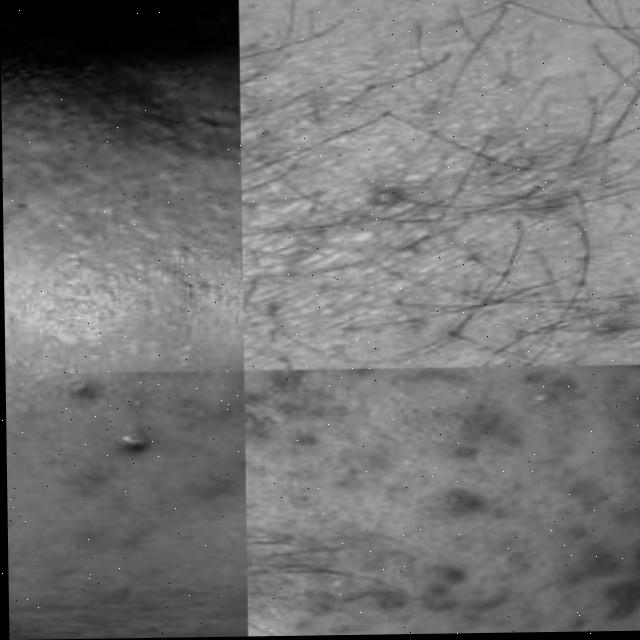Acne: (245, 25, 535, 307), (361, 384, 640, 626), (30, 105, 213, 282), (42, 415, 214, 549)
